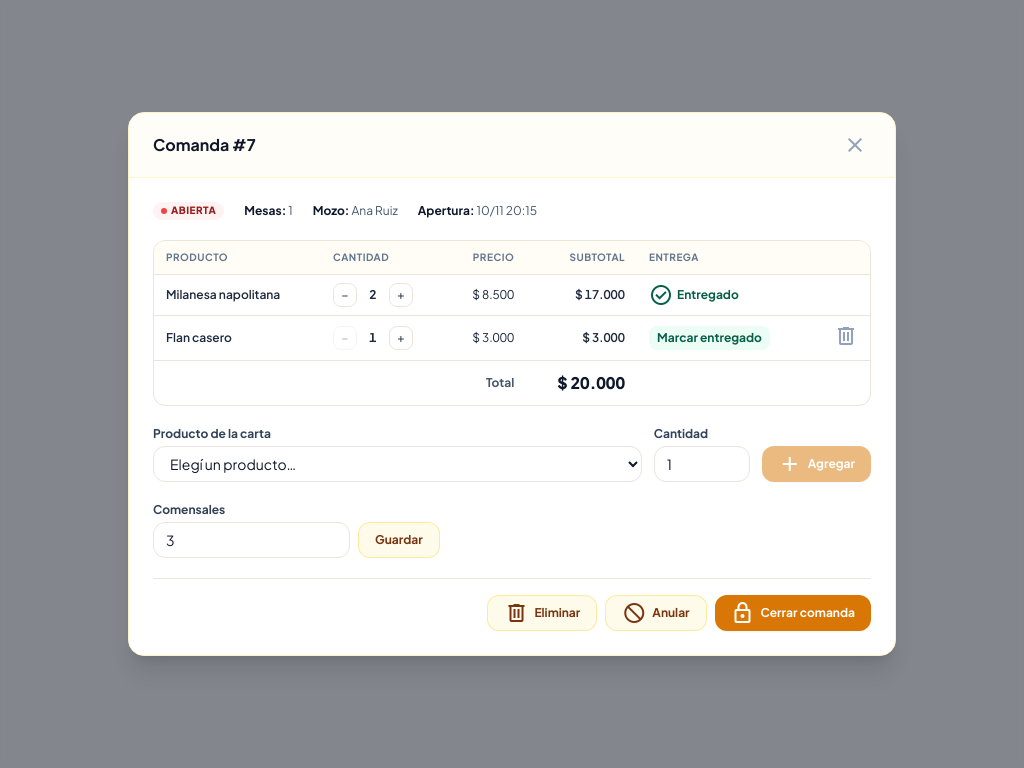
Scenario: ComandaPanel › HU-06 CA3: anula con motivo
The image size is (1024, 768).
Click the button "Anular".
click(656, 613)  # box [605, 595, 707, 631]
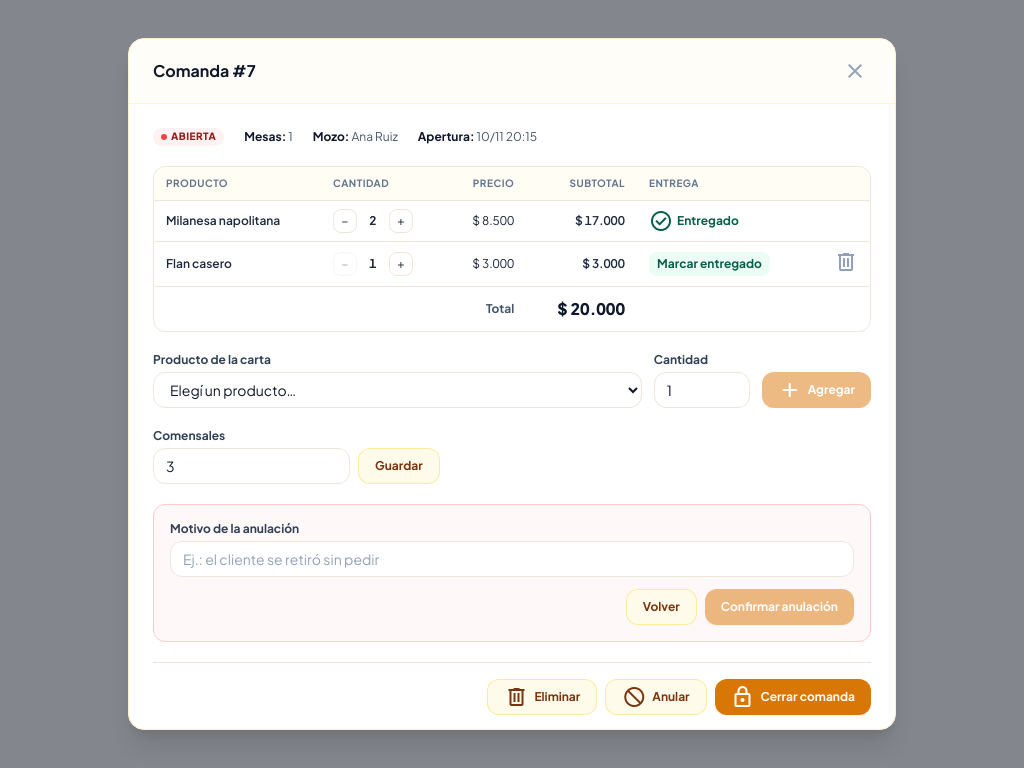
Type "Se retiró sin pedir" into the field labelled "Motivo de la anulación".
click(512, 559); type("Se retiró sin pedir")  # box [170, 541, 854, 577]
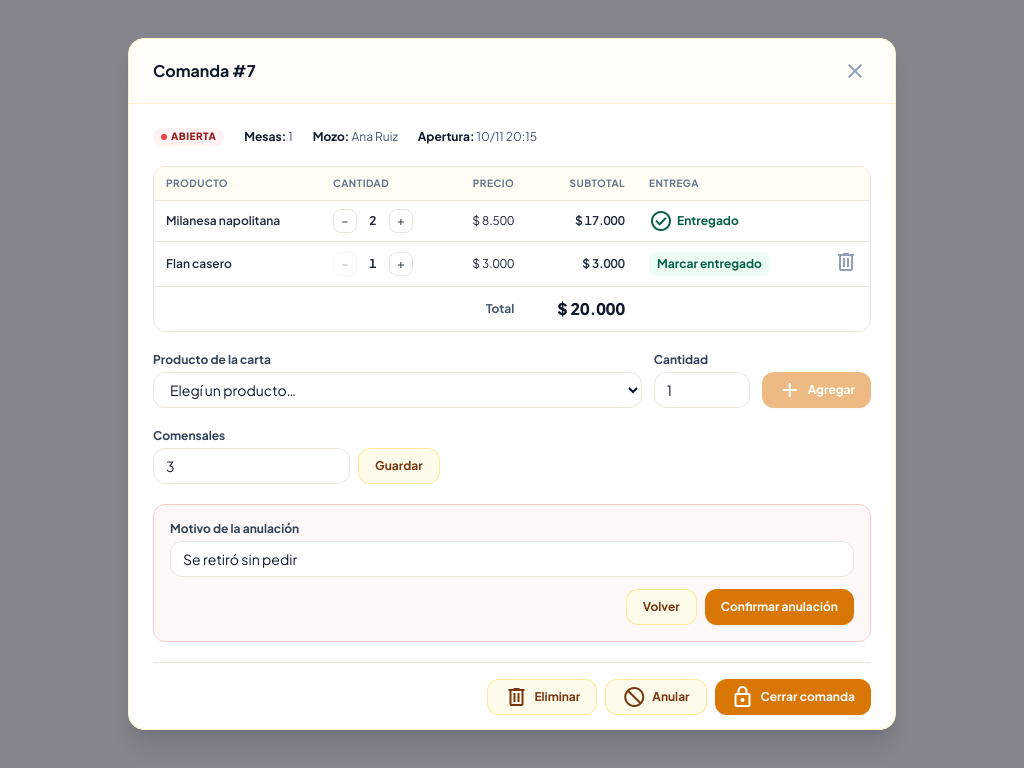
Click the button "Confirmar anulación".
click(779, 607)  # box [705, 589, 854, 625]
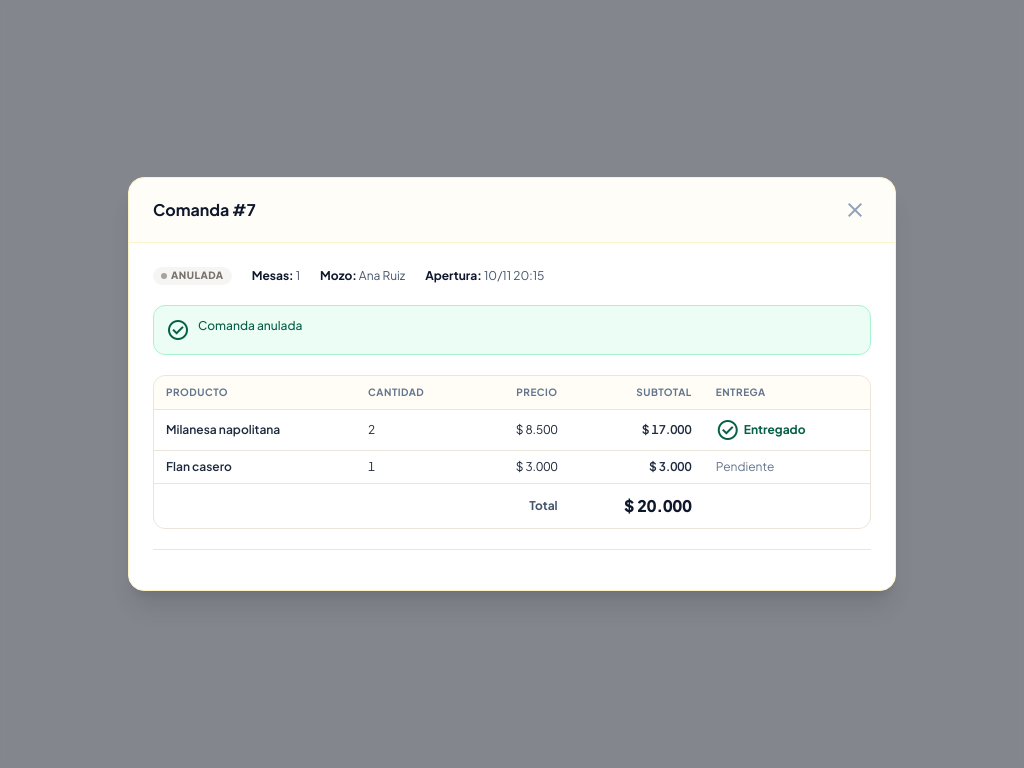
Now the text "Comanda anulada" is shown, box [198, 318, 302, 332]
